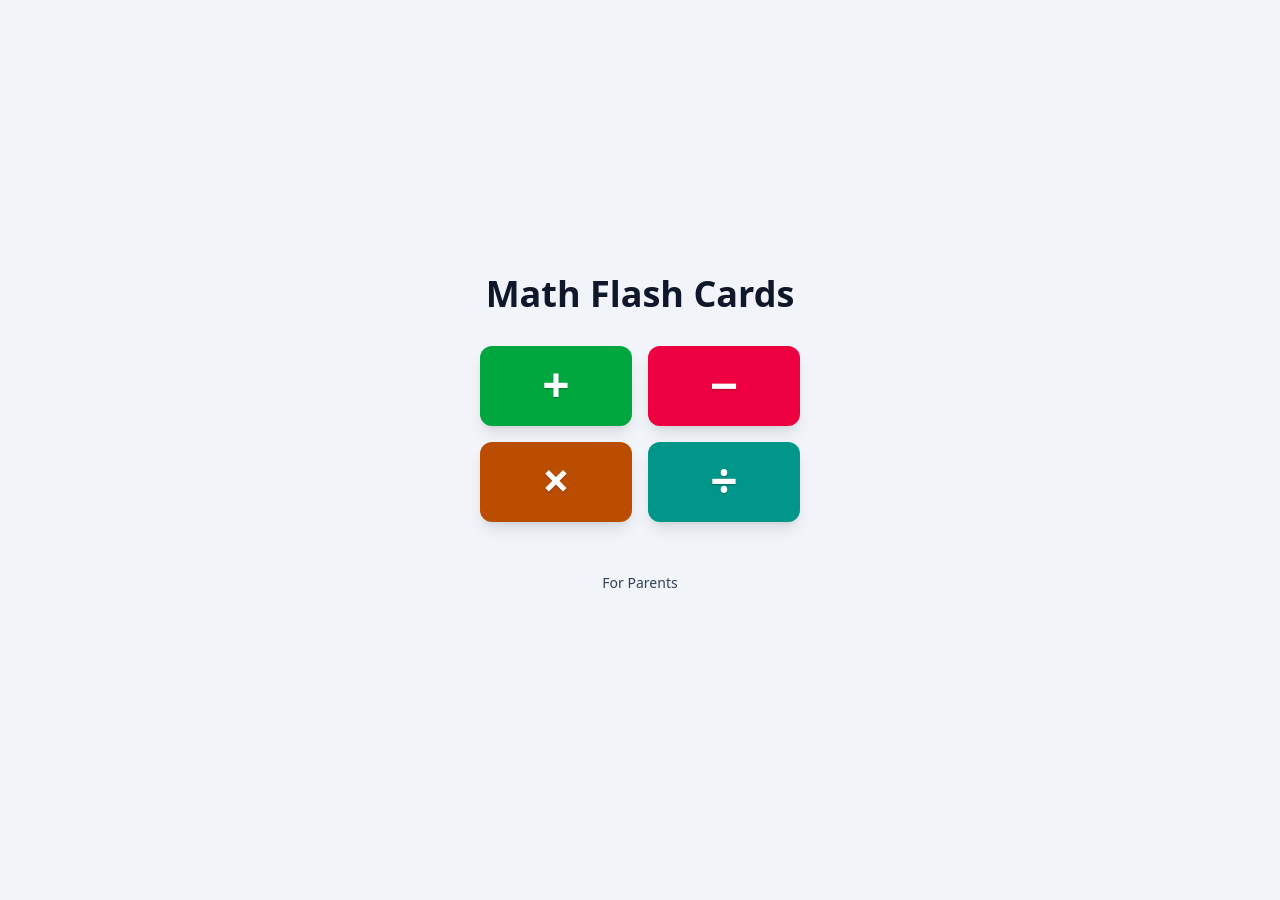
Test case: App user journeys › Drill early exit › Home → Multiplication → Drill → NavBar Home (no completion screen)
// Navigate to multiplication then drill
Click the link named "multiplication" at [556, 482], box x1=480 y1=442 x2=632 y2=522
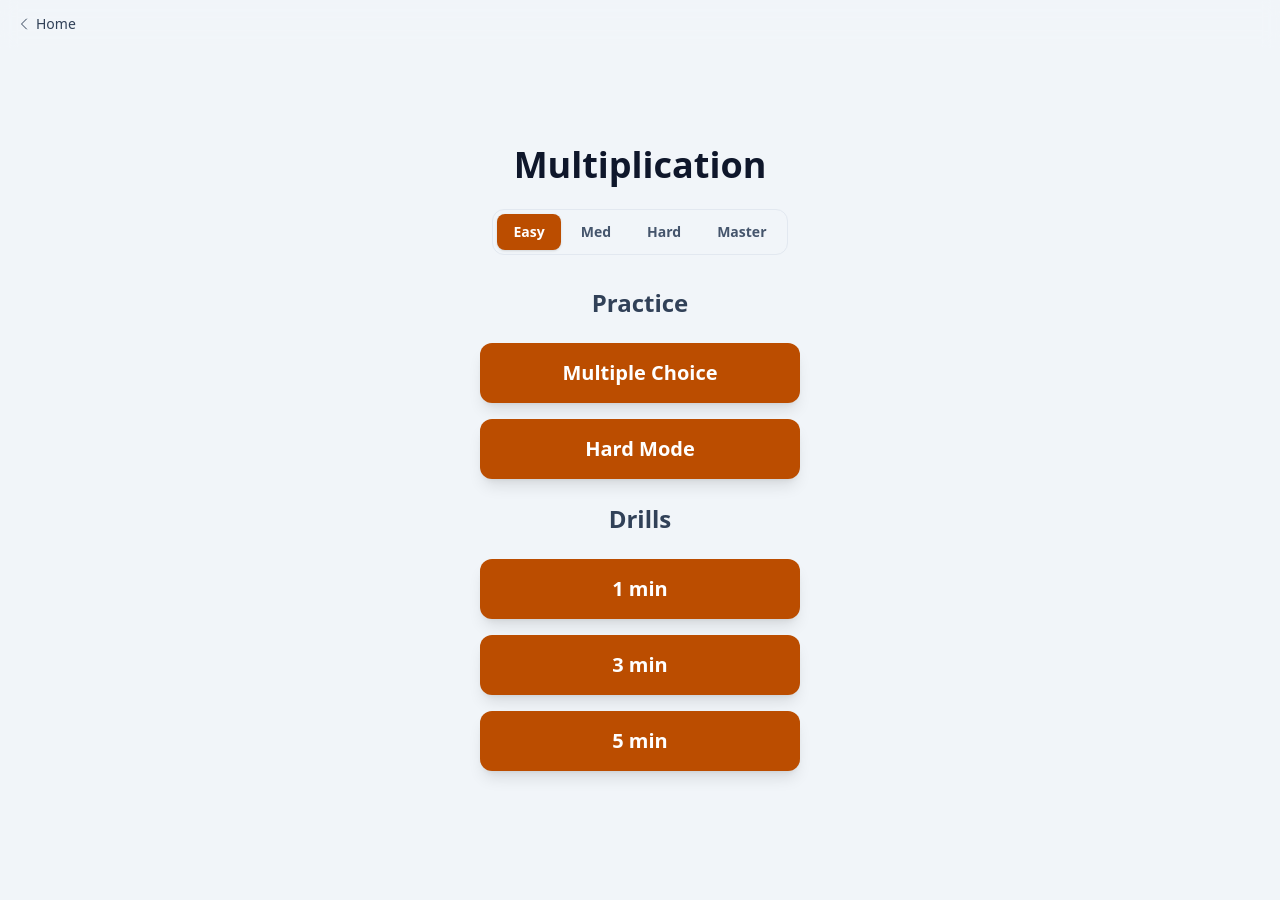
Click the link "1 min" at [640, 589], box x1=480 y1=559 x2=800 y2=619
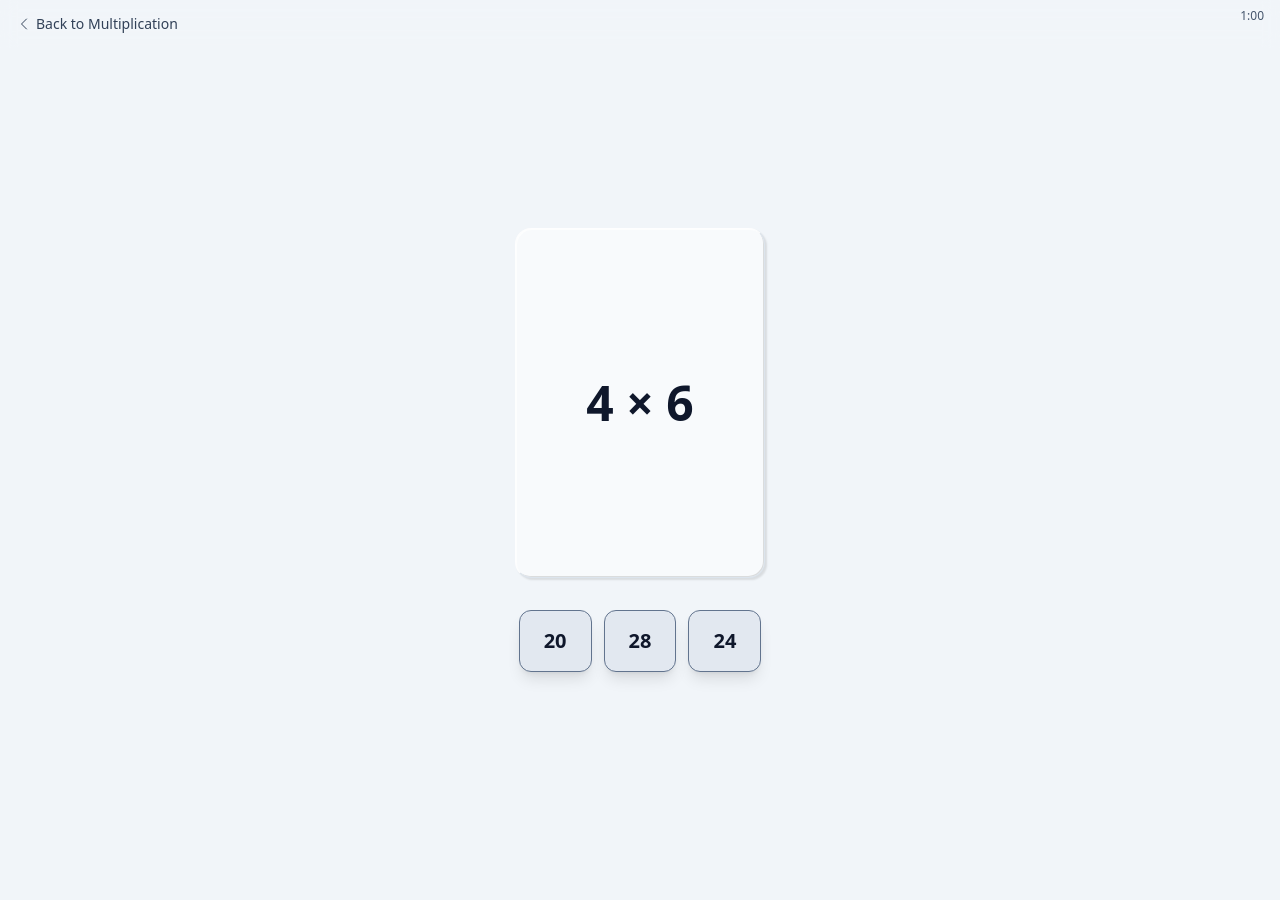
Now the 2nd text "4 × 6" is shown, box x1=597 y1=377 x2=683 y2=429
// Leave early via NavBar
Click the link "Back to Multiplication" at [97, 24], box x1=16 y1=14 x2=178 y2=34
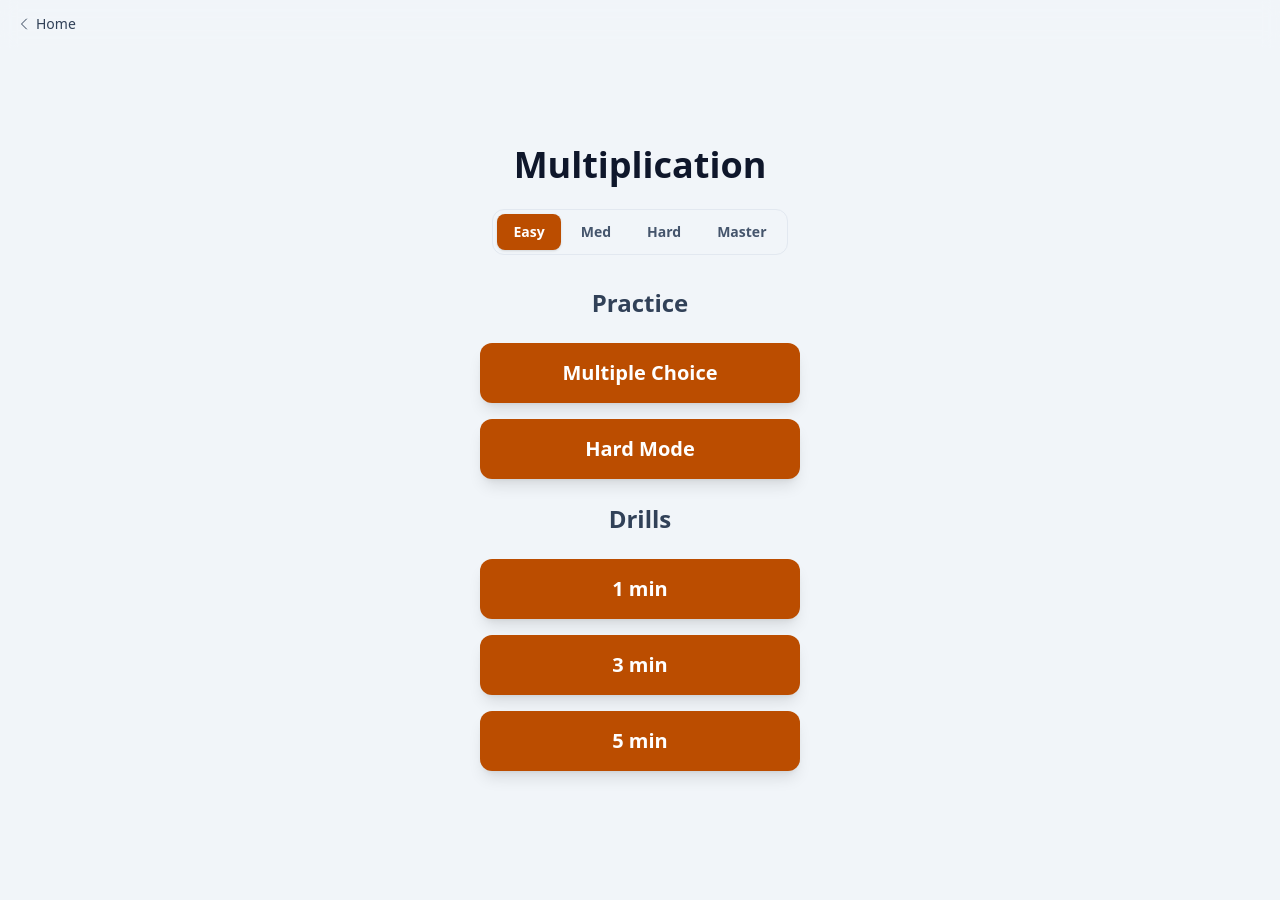
Click the link "Home" at [46, 24], box x1=16 y1=14 x2=76 y2=34
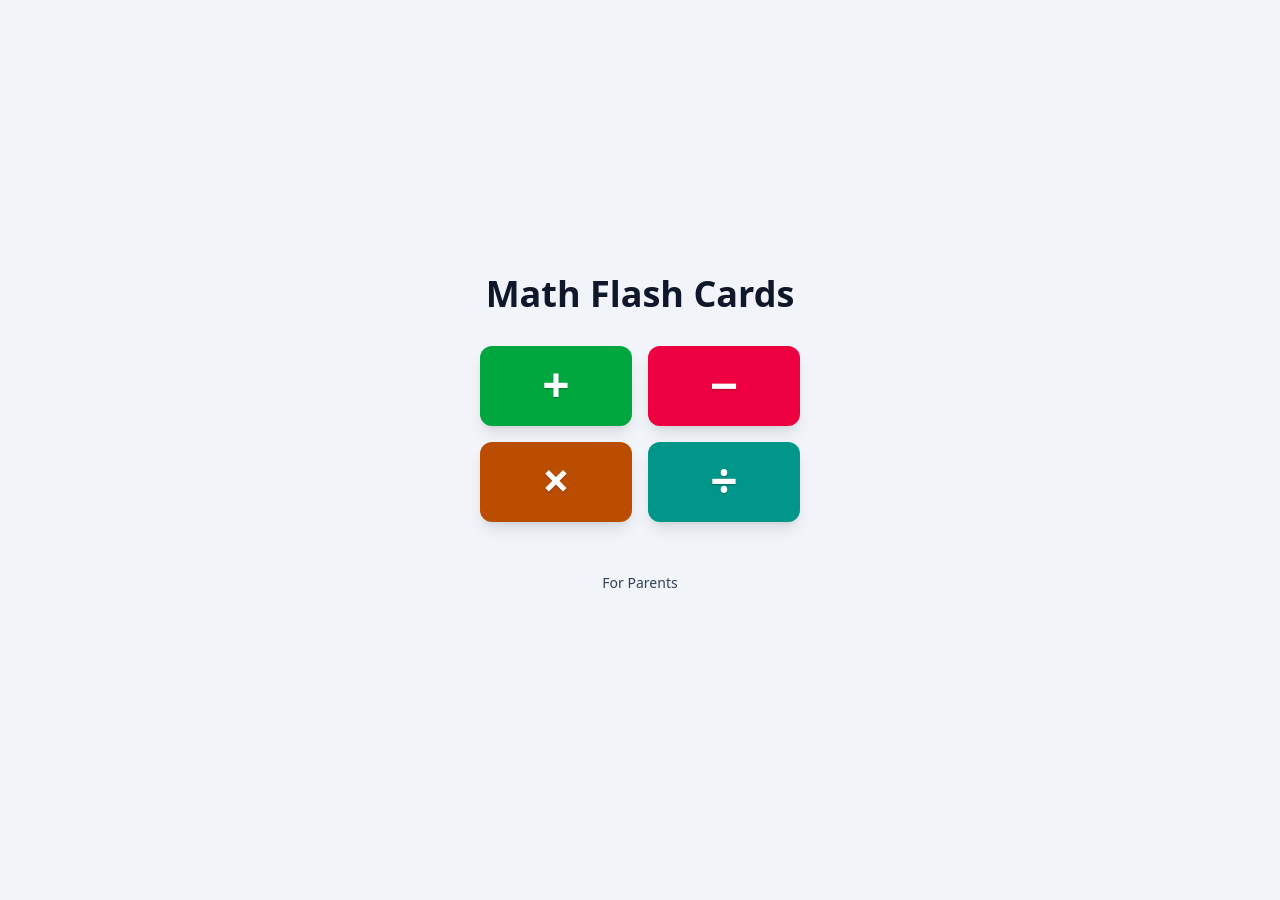
Now the heading "Math Flash Cards" is shown, box x1=486 y1=274 x2=794 y2=314
